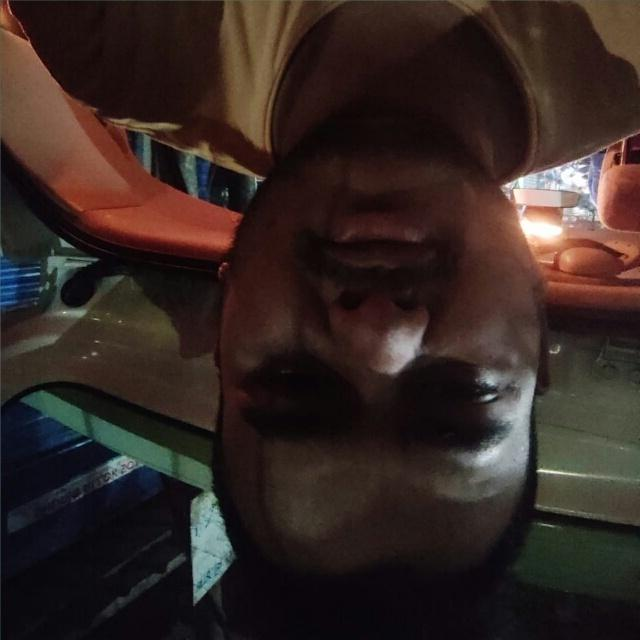Disgust: (152, 53, 608, 626)
